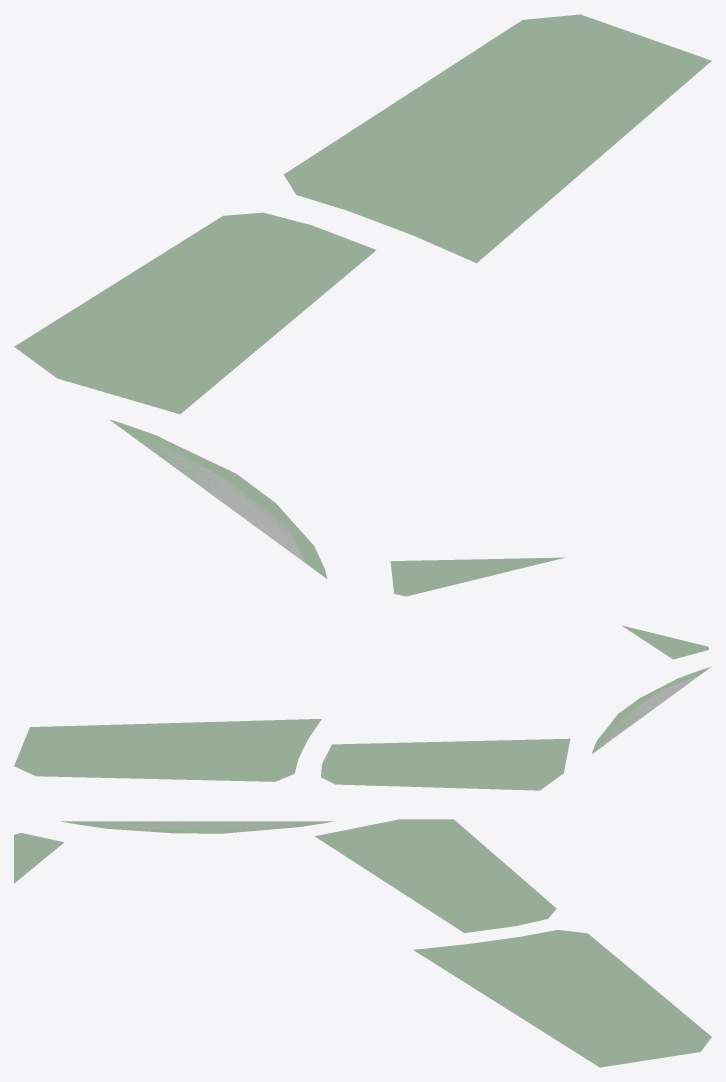
Rendered from 126_68_mid.glb.
3 renders of one model, top to bottom at view 1: azimuth 30°, elevation 25°; view 2: azimuth 150°, elevation 25°; view 3: azimuth 270°, elevation 25°, orthographic. The views are drawn at different scales.
Size of the model in its own units: 288 by 2.09 by 340.
